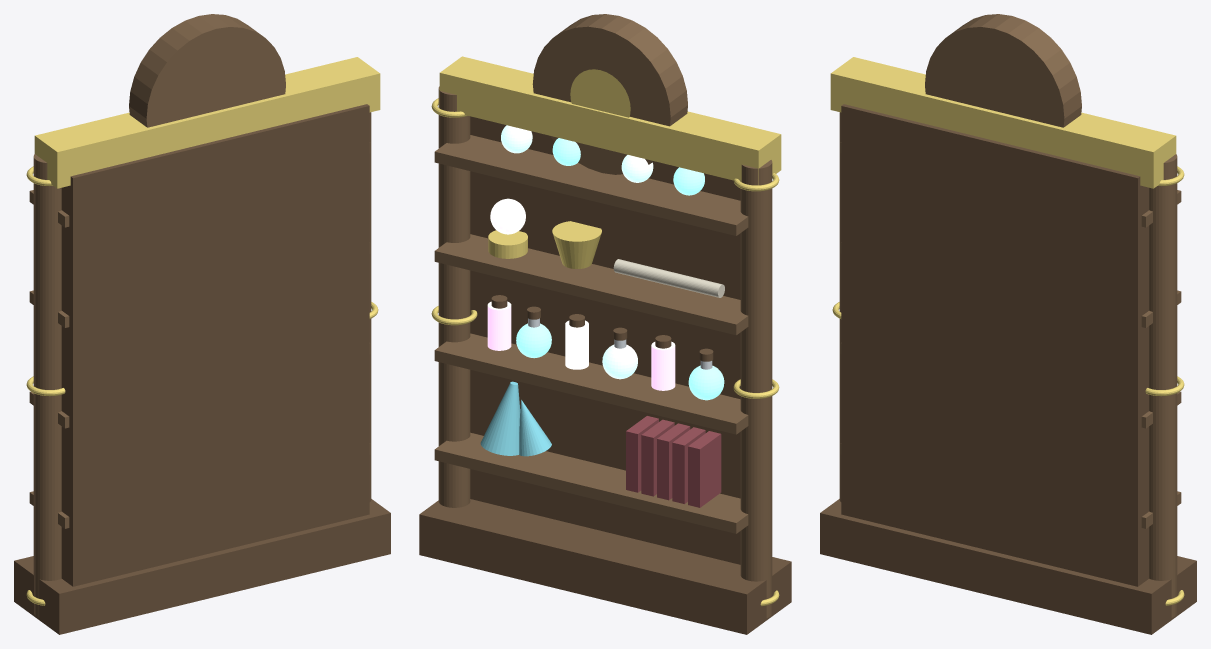
File: Estante_Magico_3D_Blender.fbx
3 renders of one model, left to right at view 1: azimuth 30°, elevation 25°; view 2: azimuth 150°, elevation 25°; view 3: azimuth 330°, elevation 25°, orthographic.
Parts seen in each view (by area): view 1: Shelf_Backboard, Shelf_Base, Shelf_TopTrim, Shelf_ArchCrown, Pillar_L, Pillar_R; view 2: Shelf_Backboard, Shelf_Base, Shelf_TopTrim, Pillar_L, Shelf_ArchCrown, Shelf_Plank_4, Pillar_R, Shelf_Plank_3, Shelf_Plank_2, Shelf_Plank_1, Tome_V_0, ArcaneEmblem (+21 smaller); view 3: Shelf_Backboard, Shelf_Base, Shelf_TopTrim, Shelf_ArchCrown, Pillar_R, Pillar_L.
Boxes of the visible parts, left/top/right/bottom form: Shelf_Backboard: left=61, top=104, right=369, bottom=586; Shelf_Base: left=14, top=499, right=390, bottom=634; Shelf_TopTrim: left=34, top=57, right=380, bottom=188; Shelf_ArchCrown: left=129, top=14, right=285, bottom=127; Pillar_L: left=33, top=154, right=61, bottom=617; Pillar_R: left=369, top=112, right=371, bottom=501; Shelf_Backboard: left=470, top=116, right=740, bottom=564; Shelf_Base: left=419, top=499, right=791, bottom=634; Shelf_TopTrim: left=439, top=56, right=781, bottom=184; Pillar_L: left=740, top=160, right=772, bottom=617; Shelf_ArchCrown: left=532, top=14, right=687, bottom=174; Shelf_Plank_4: left=434, top=135, right=748, bottom=235; Pillar_R: left=438, top=86, right=470, bottom=507; Shelf_Plank_3: left=434, top=234, right=748, bottom=335; Shelf_Plank_2: left=434, top=333, right=748, bottom=434; Shelf_Plank_1: left=434, top=432, right=748, bottom=533; Tome_V_0: left=688, top=431, right=721, bottom=507; ArcaneEmblem: left=570, top=69, right=630, bottom=117; Shelf_Backboard: left=841, top=104, right=1149, bottom=586; Shelf_Base: left=820, top=499, right=1196, bottom=634; Shelf_TopTrim: left=830, top=57, right=1176, bottom=188; Shelf_ArchCrown: left=925, top=14, right=1081, bottom=127; Pillar_R: left=1149, top=154, right=1177, bottom=617; Pillar_L: left=839, top=112, right=841, bottom=501.
Bounding box in the file's own units: 396 × 613 × 90.
